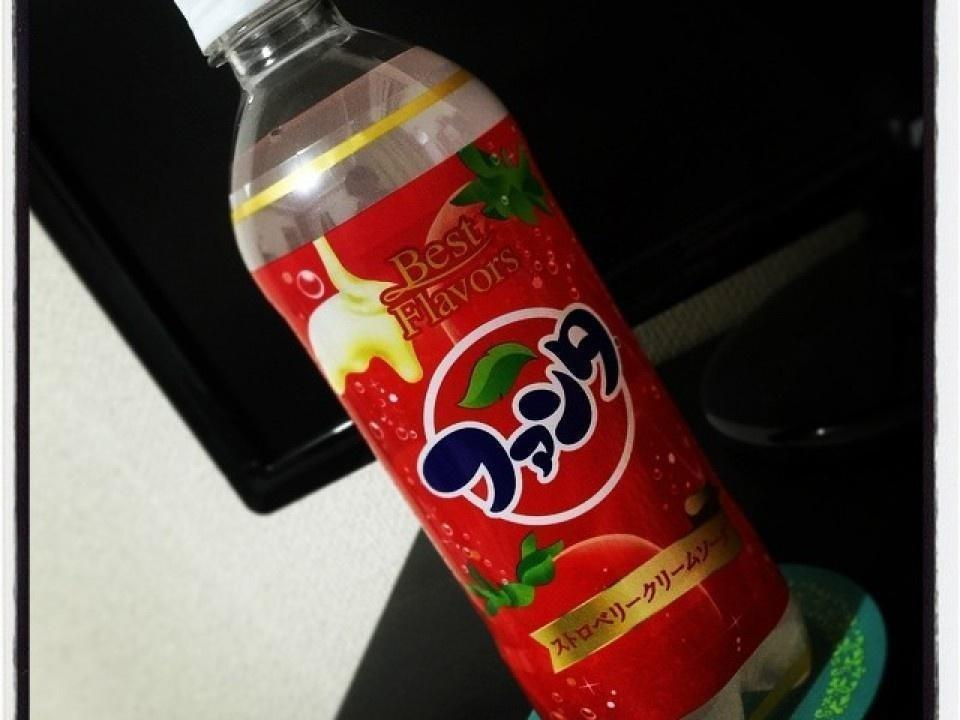bottle-plastic: (164, 2, 825, 716)
